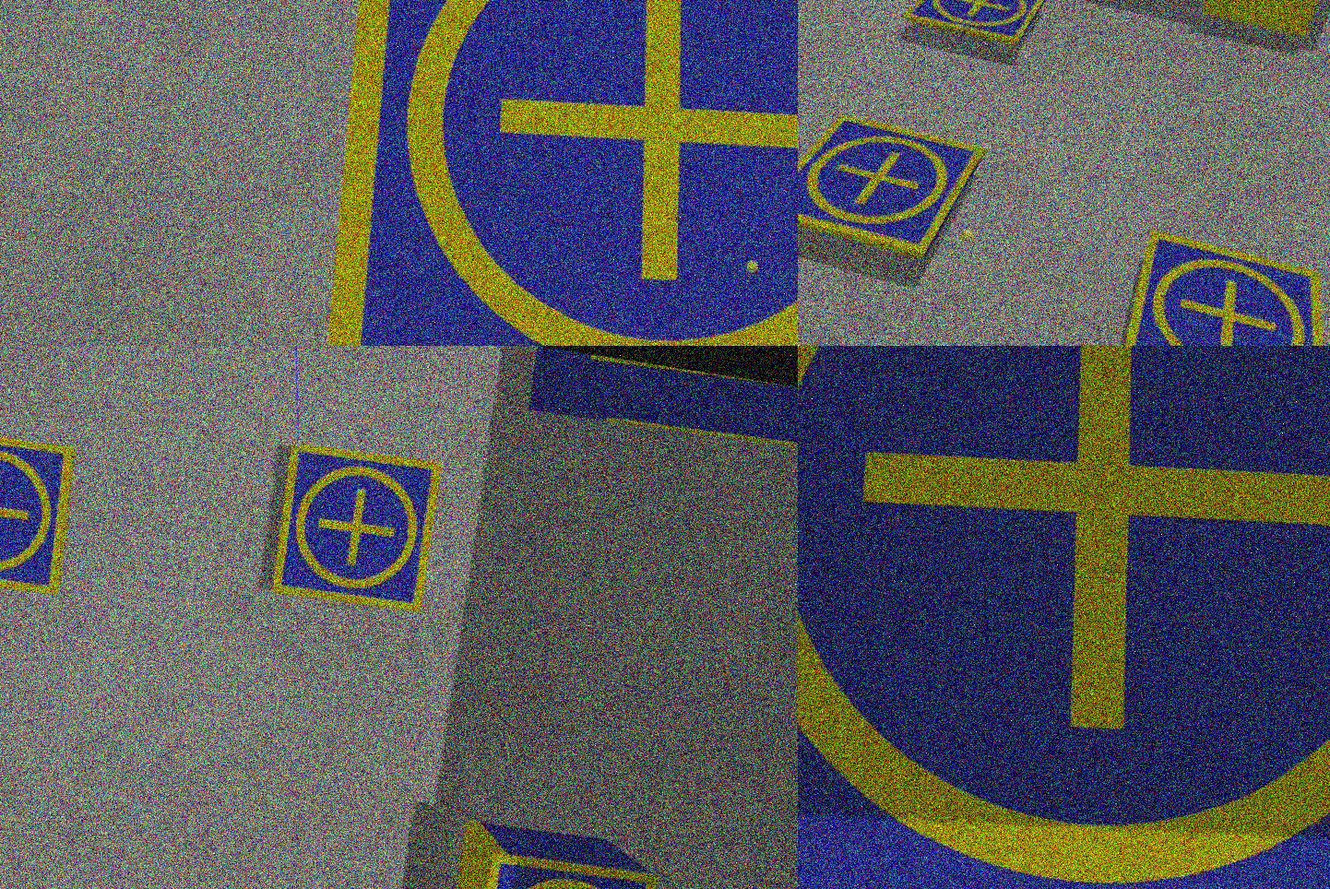small_base: (798, 347, 1330, 889), (281, 1, 798, 347), (267, 439, 448, 616), (798, 101, 988, 267), (1113, 225, 1330, 347), (1, 424, 82, 598), (463, 846, 657, 889), (903, 1, 1052, 54)
